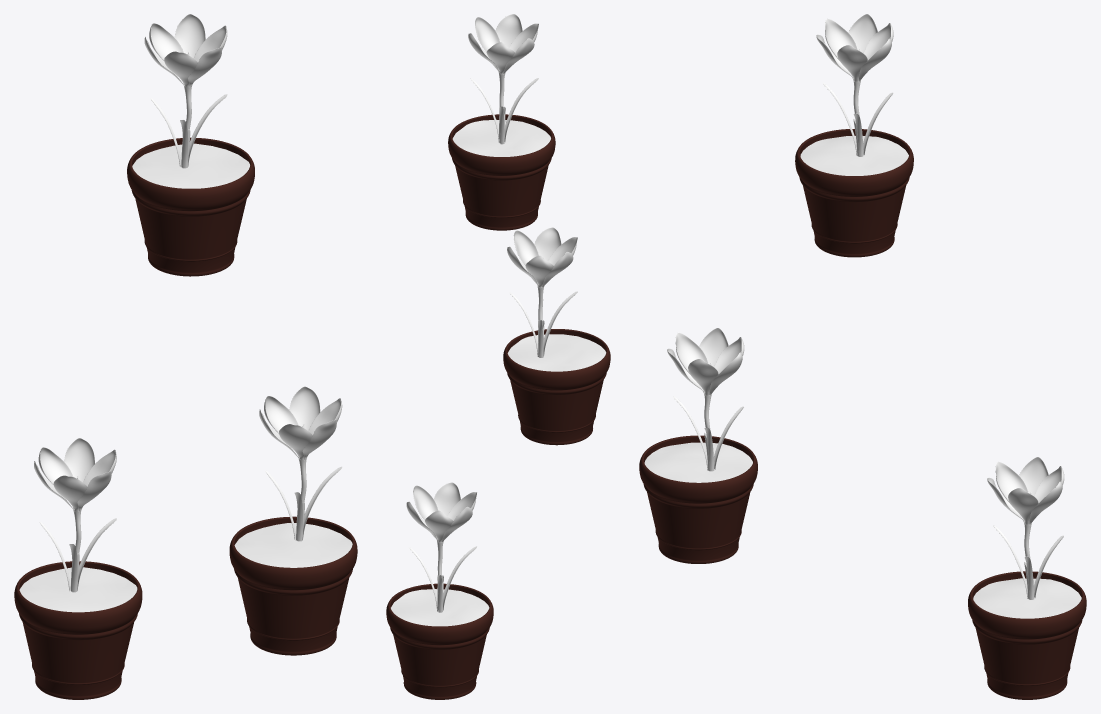
Rendered from Room3-Flower8.glb.
3 views of the same model, side by side, from view 1: azimuth 30°, elevation 25°; view 2: azimuth 150°, elevation 25°; view 3: azimuth 270°, elevation 25° (orthographic). The views are drawn at different scales.
Visible parts, largest first — view 1: Plant_Pot_Soil_Plant_Pot_Soil_M_0.056, Plant_Pot_Soil_Plant_Pot_Soil_M_0.055, Plant_Pot_Soil_Plant_Pot_Soil_M_0.057, Object_2.033, Object_2.032, Object_2.031; view 2: Plant_Pot_Soil_Plant_Pot_Soil_M_0.055, Plant_Pot_Soil_Plant_Pot_Soil_M_0.056, Plant_Pot_Soil_Plant_Pot_Soil_M_0.057, Object_2.033, Object_2.031, Object_2.032; view 3: Plant_Pot_Soil_Plant_Pot_Soil_M_0.057, Plant_Pot_Soil_Plant_Pot_Soil_M_0.055, Plant_Pot_Soil_Plant_Pot_Soil_M_0.056, Object_2.032, Object_2.031, Object_2.033.
Part boxes in pixels (bbox=[...]): Plant_Pot_Soil_Plant_Pot_Soil_M_0.056: bbox=[229, 516, 357, 655]; Plant_Pot_Soil_Plant_Pot_Soil_M_0.055: bbox=[14, 561, 142, 699]; Plant_Pot_Soil_Plant_Pot_Soil_M_0.057: bbox=[127, 137, 254, 276]; Object_2.033: bbox=[144, 14, 227, 168]; Object_2.032: bbox=[259, 386, 342, 541]; Object_2.031: bbox=[34, 438, 117, 592]; Plant_Pot_Soil_Plant_Pot_Soil_M_0.055: bbox=[386, 583, 493, 699]; Plant_Pot_Soil_Plant_Pot_Soil_M_0.056: bbox=[503, 329, 610, 445]; Plant_Pot_Soil_Plant_Pot_Soil_M_0.057: bbox=[448, 114, 555, 230]; Object_2.033: bbox=[468, 14, 538, 144]; Object_2.031: bbox=[406, 482, 477, 612]; Object_2.032: bbox=[507, 227, 577, 357]; Plant_Pot_Soil_Plant_Pot_Soil_M_0.057: bbox=[795, 129, 913, 257]; Plant_Pot_Soil_Plant_Pot_Soil_M_0.055: bbox=[968, 571, 1086, 699]; Plant_Pot_Soil_Plant_Pot_Soil_M_0.056: bbox=[639, 435, 757, 563]; Object_2.032: bbox=[667, 328, 744, 471]; Object_2.031: bbox=[987, 457, 1064, 599]; Object_2.033: bbox=[816, 14, 893, 156].
Size of the model in its own units: 2.19 by 10.03 by 6.15.
